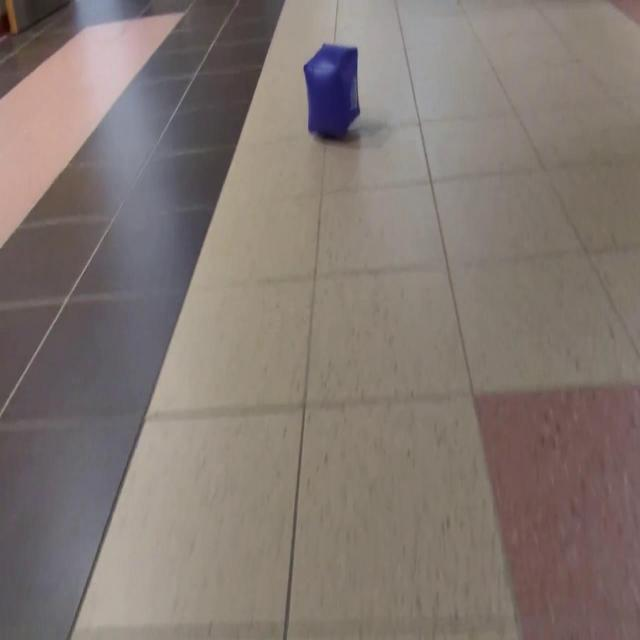frc_cube: (302, 42, 362, 140)
